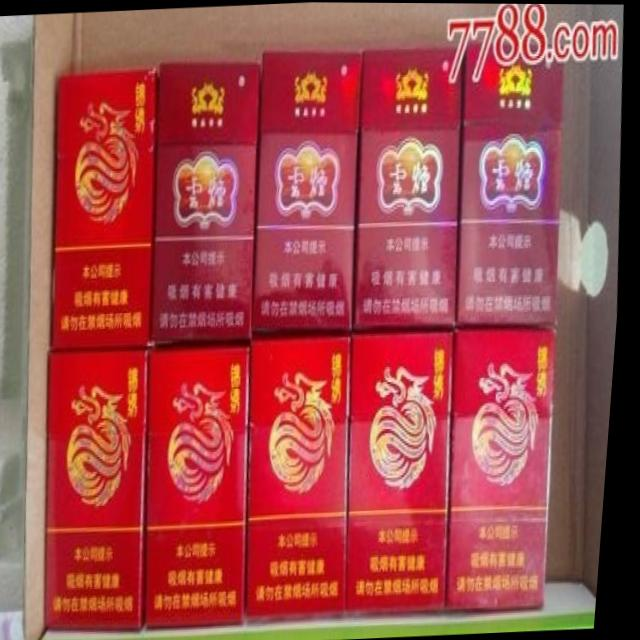box: (256, 49, 364, 337), (357, 46, 465, 332), (155, 62, 261, 346), (457, 325, 562, 611), (461, 44, 565, 329), (56, 66, 159, 350), (153, 343, 255, 629), (356, 329, 458, 615), (52, 348, 154, 632), (256, 332, 356, 620)
